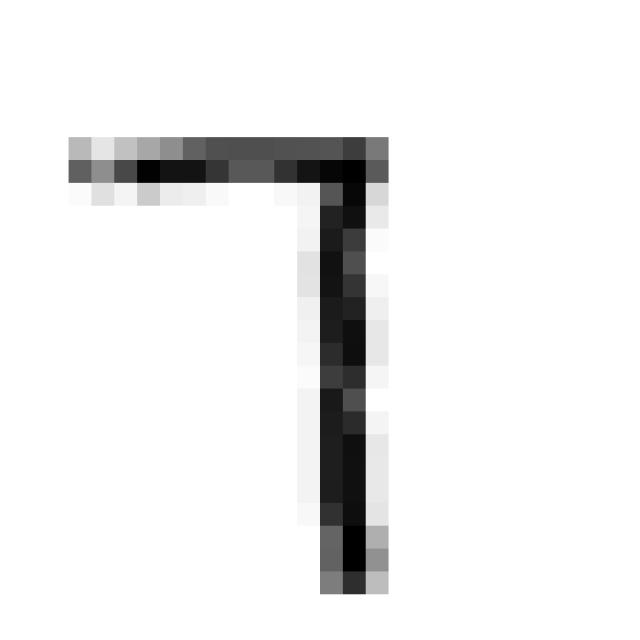6 -six-: (46, 108, 412, 612)
